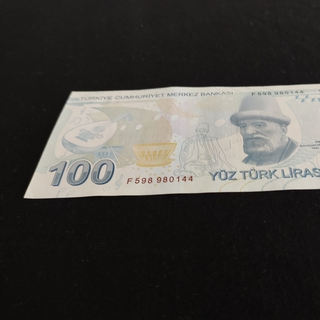100TLBack: (23, 81, 320, 201)
